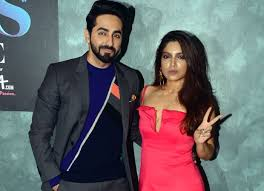Bad: (29, 1, 222, 191)
